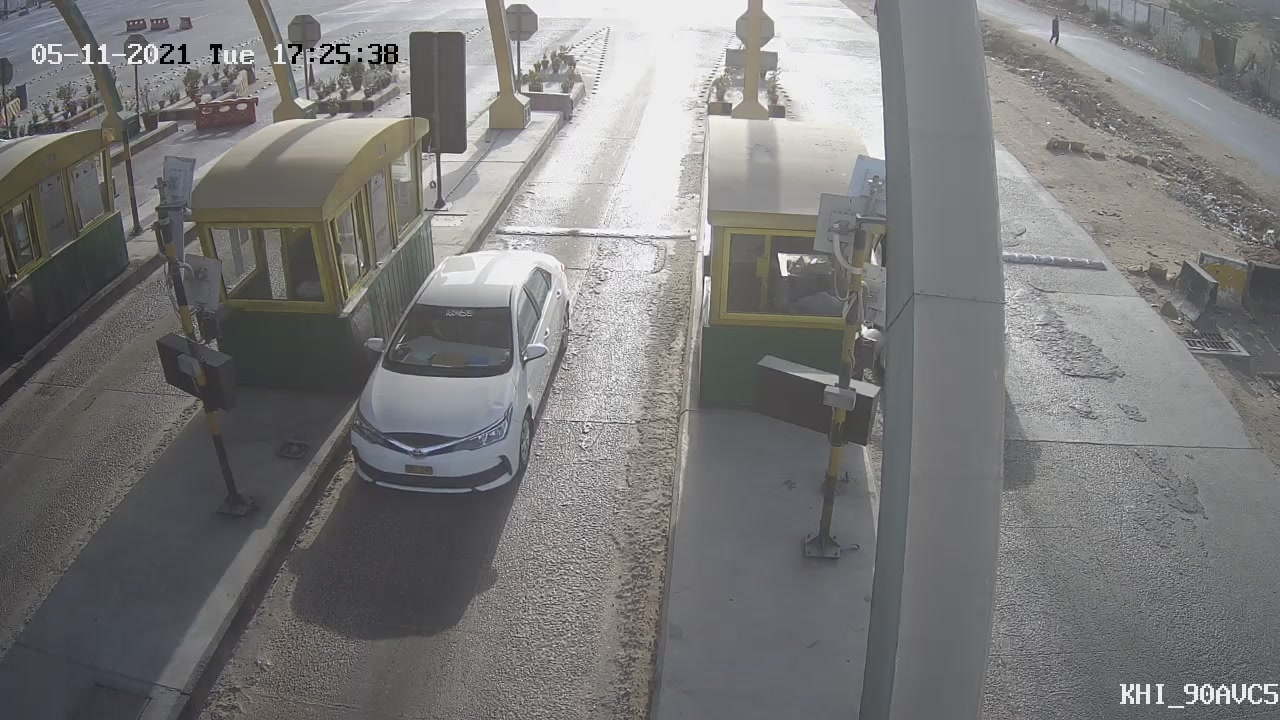F1: (314, 231, 595, 524)
